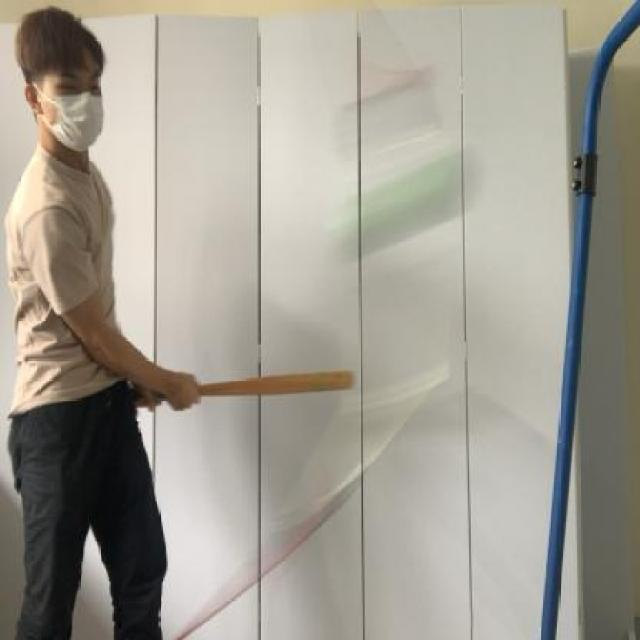baseball: (320, 135, 495, 271)
